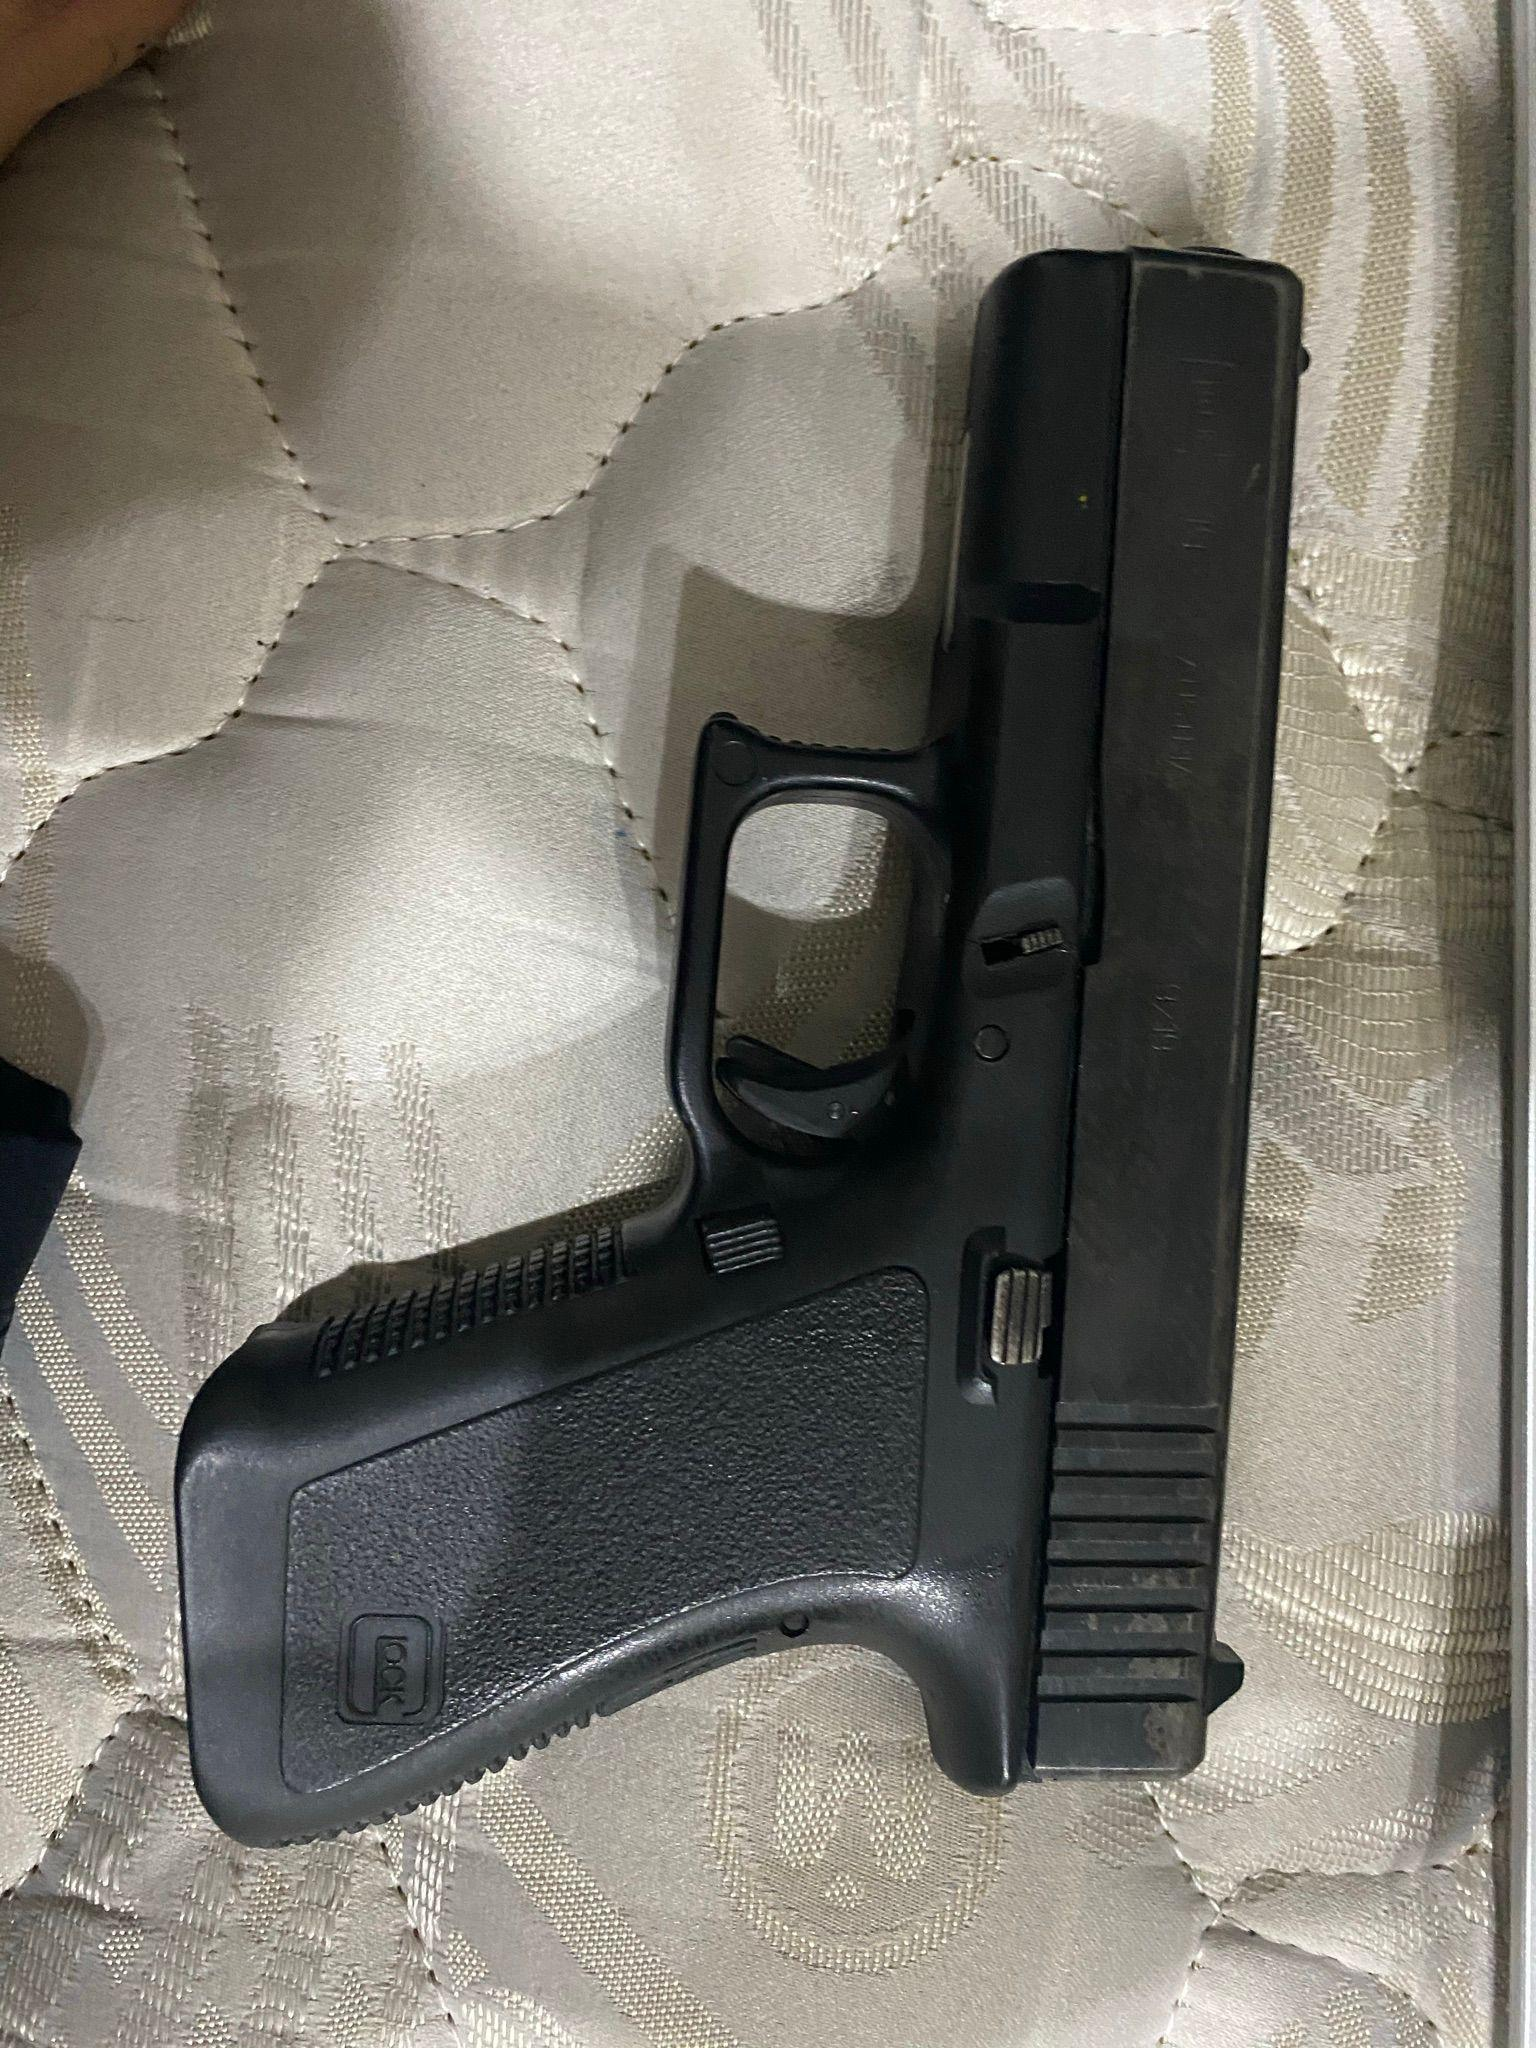weapon: (177, 240, 1317, 1863)
